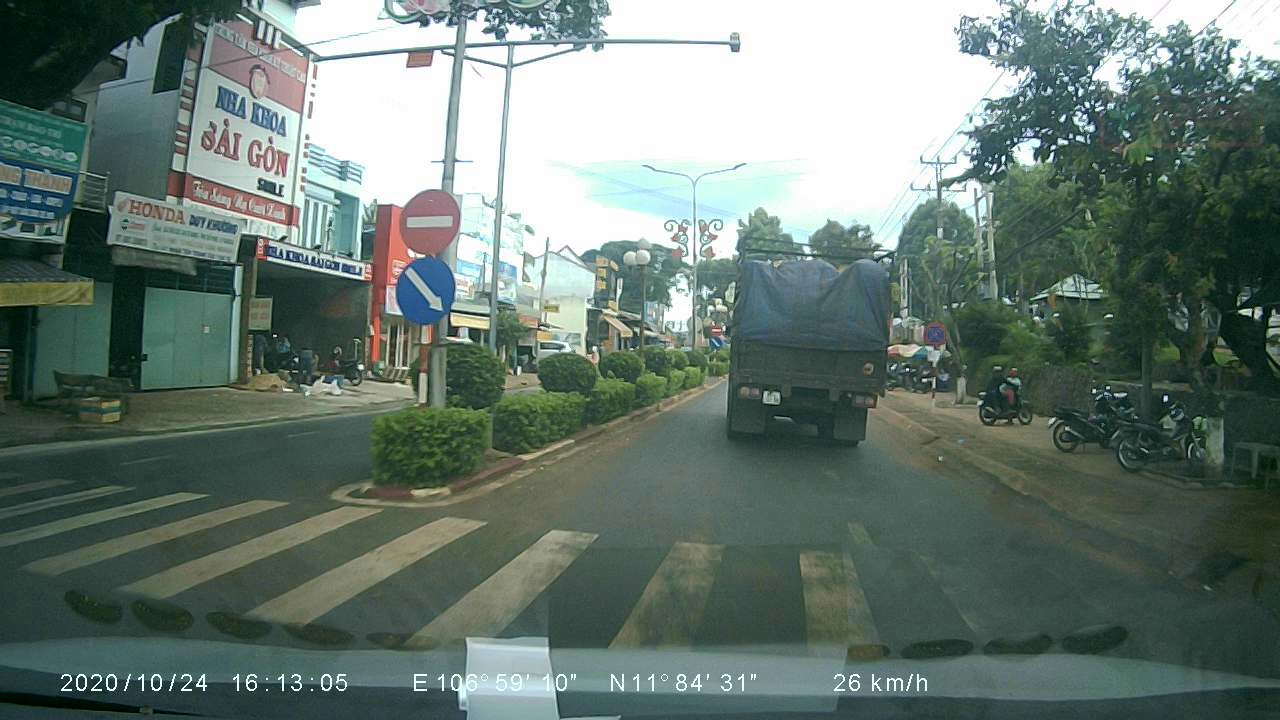Bien khac: (924, 321, 949, 344)
Cam di nguoc chieu: (395, 187, 454, 255)
Huong di phai re phai: (394, 258, 458, 329)
